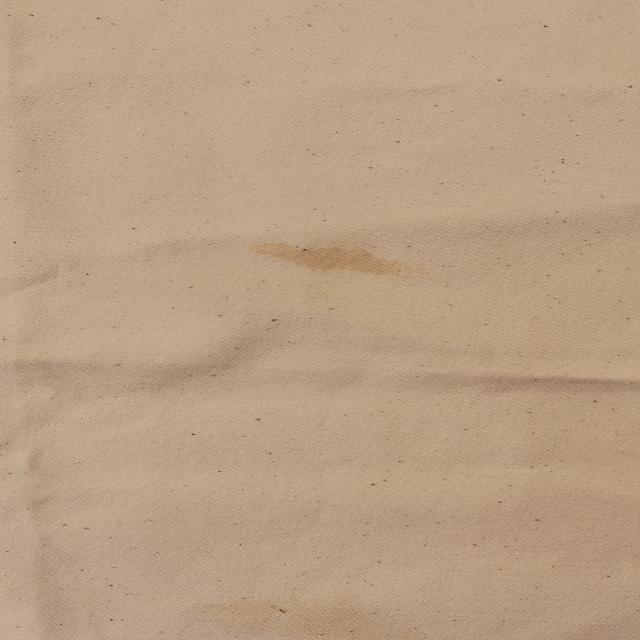taaaches: (250, 227, 424, 291)
